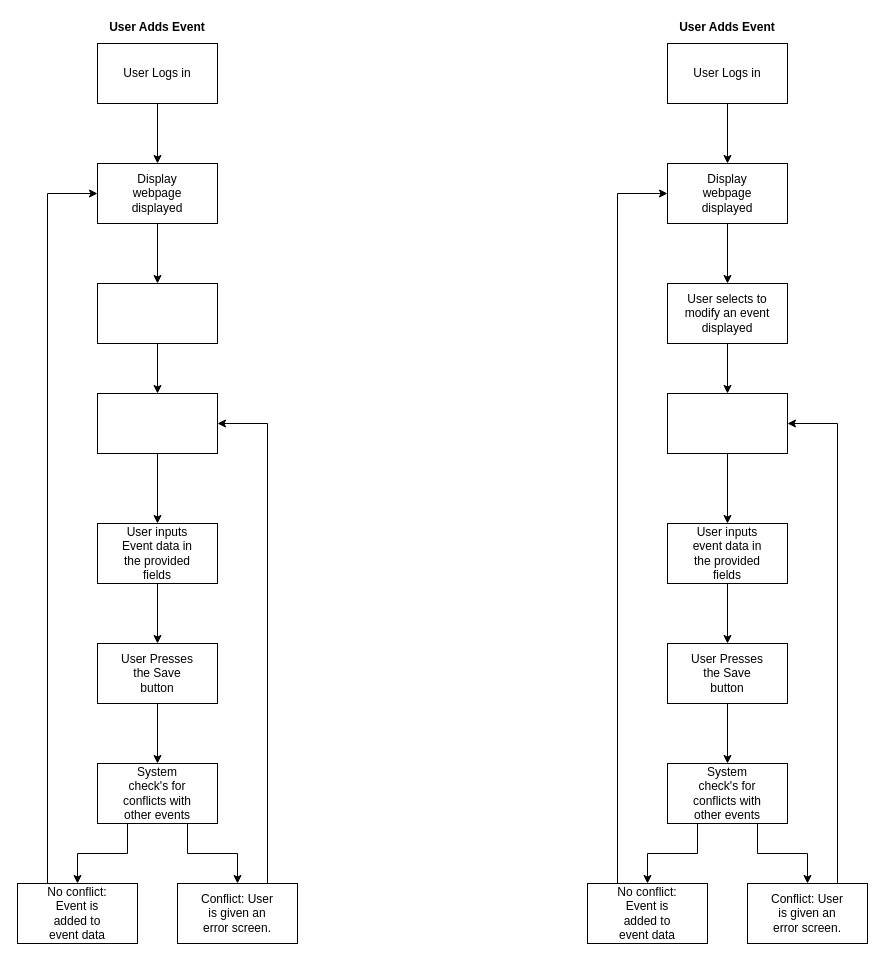
Some shapes in this 885 by 961 pixel diagram are drawn without their labels. Each missing label, with the centre of its shape:
System Displays "add event" webpage: the point at 157,423
System Displays "modify event" webpage: the point at 727,423
User Selects Add Event: the point at 157,313
